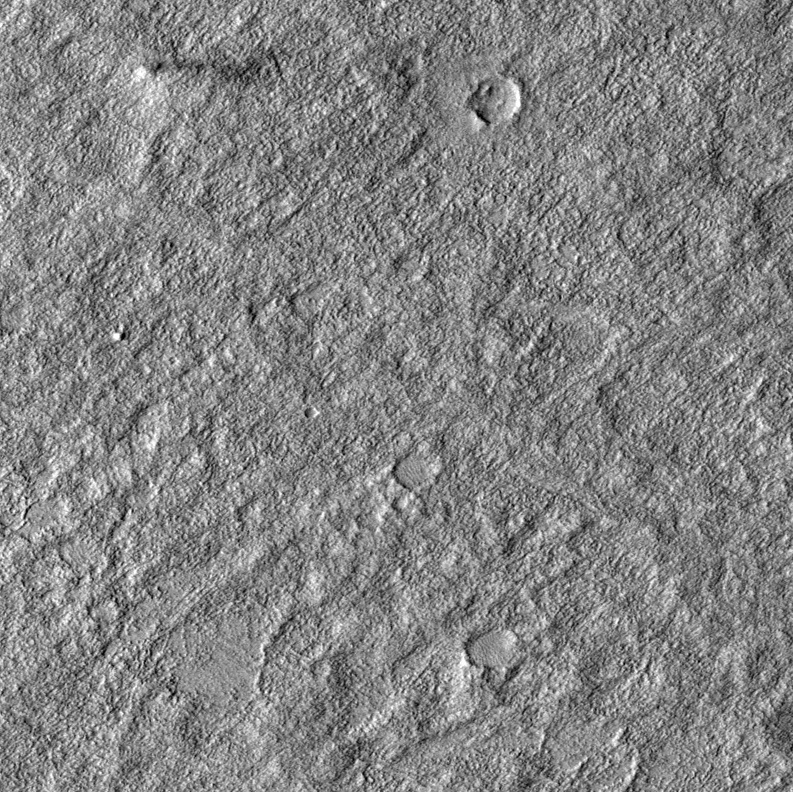dust_devil: (131, 54, 266, 87)
